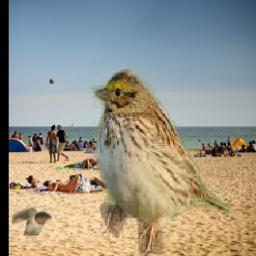Sparrow: (88, 67, 230, 255)
Swallow: (12, 208, 52, 237)
